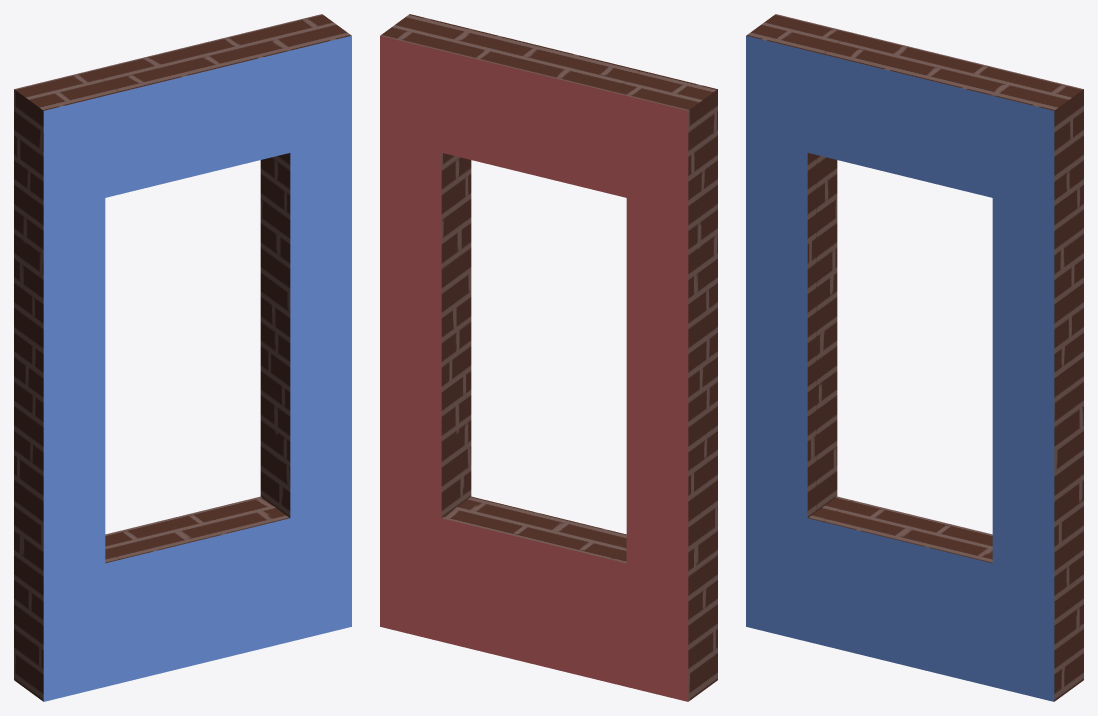
The model's file is wall3_3x5.5.FBX.
3 renders of one model, left to right at view 1: azimuth 30°, elevation 25°; view 2: azimuth 150°, elevation 25°; view 3: azimuth 330°, elevation 25°, orthographic.
Visible parts, largest first — view 1: wall3_3x5.5; view 2: wall3_3x5.5; view 3: wall3_3x5.5.
Boxes of the visible parts, x1,y1,x2,y2 form: wall3_3x5.5: (14,14,351,701); wall3_3x5.5: (380,14,717,701); wall3_3x5.5: (746,14,1083,701).
Bounding box in the file's own units: 300 × 550 × 50.
3 materials, 1 textured.
